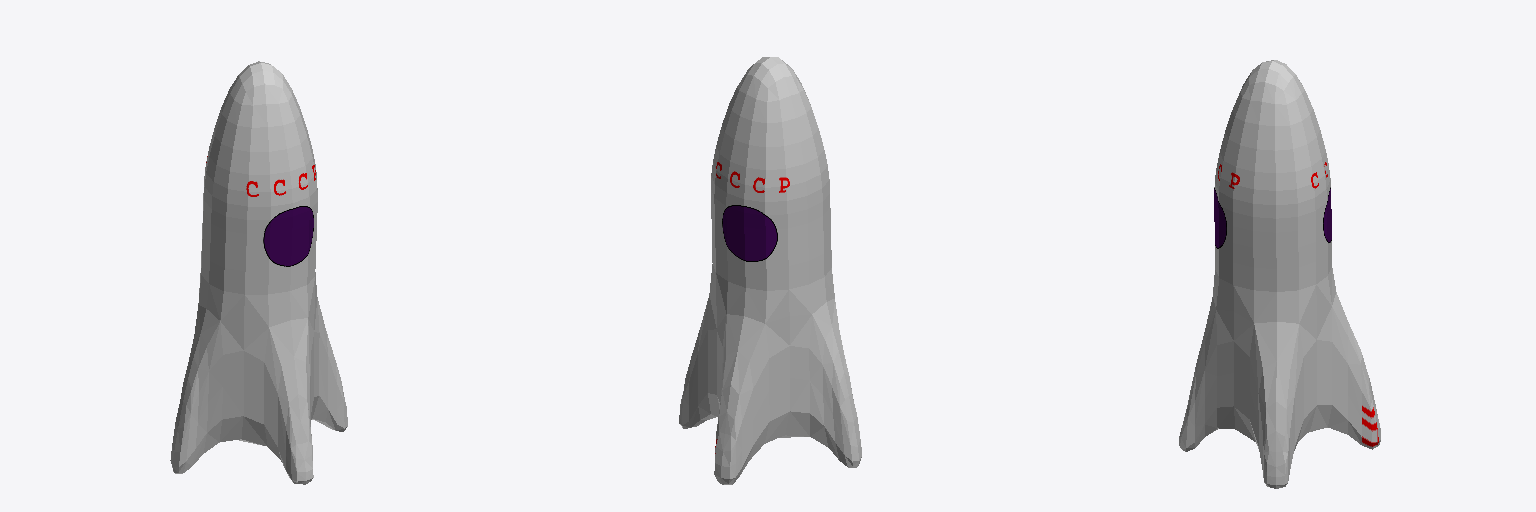
The picture shows the model from 3 angles: view 1: azimuth 30°, elevation 25°; view 2: azimuth 150°, elevation 25°; view 3: azimuth 270°, elevation 25°; orthographic projection.
Parts seen in each view (by area): view 1: Rocket_Cube.076; view 2: Rocket_Cube.076; view 3: Rocket_Cube.076.
Part boxes in pixels (x1,y1,x2,y2): Rocket_Cube.076: (170,61,347,484); Rocket_Cube.076: (679,57,861,484); Rocket_Cube.076: (1179,60,1380,488).
Bounding box in the file's own units: 4.91 × 10.51 × 4.94.
Materials: 1 (1 with a texture image).